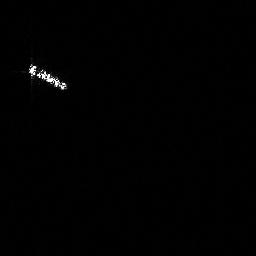ship: (26, 60, 70, 94)
